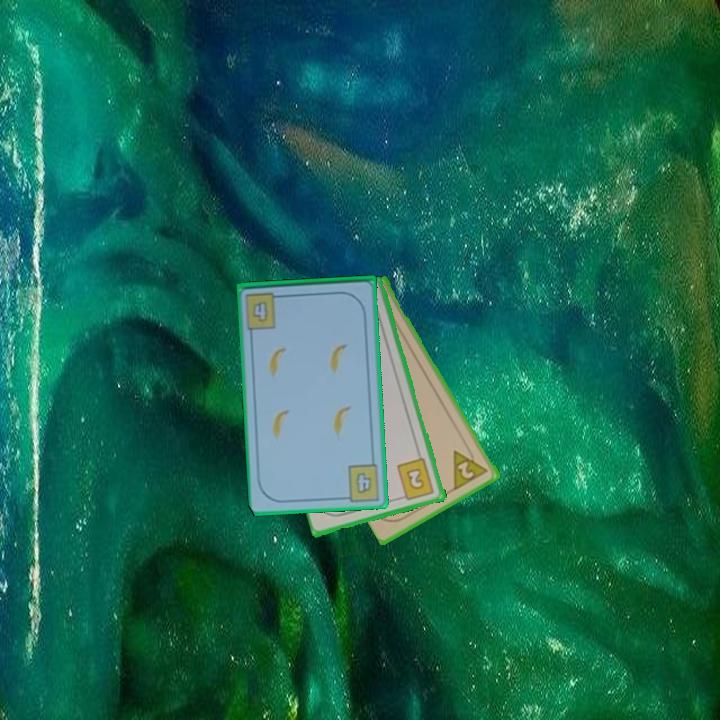2b: (394, 455, 437, 504)
2p: (450, 441, 491, 493)
4b: (339, 460, 383, 503), (249, 298, 271, 325)
